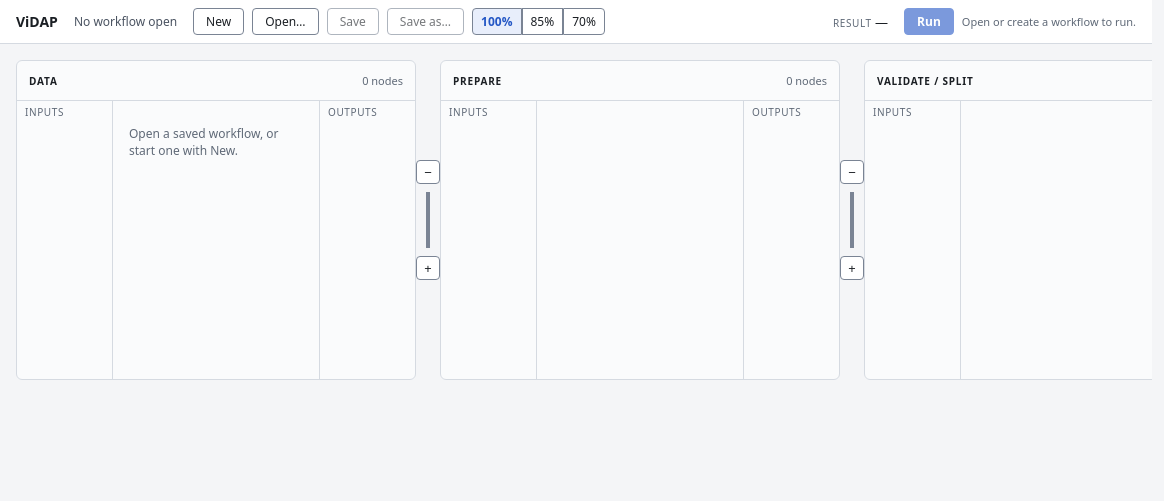
Test: Editor run, results, runtime errors, and boundary trace (P3-EP05) › handles 409 busy with a non-destructive retry banner and handles 422 run-refused
Click the button "Open…" at (285, 22), box [252, 8, 319, 35]
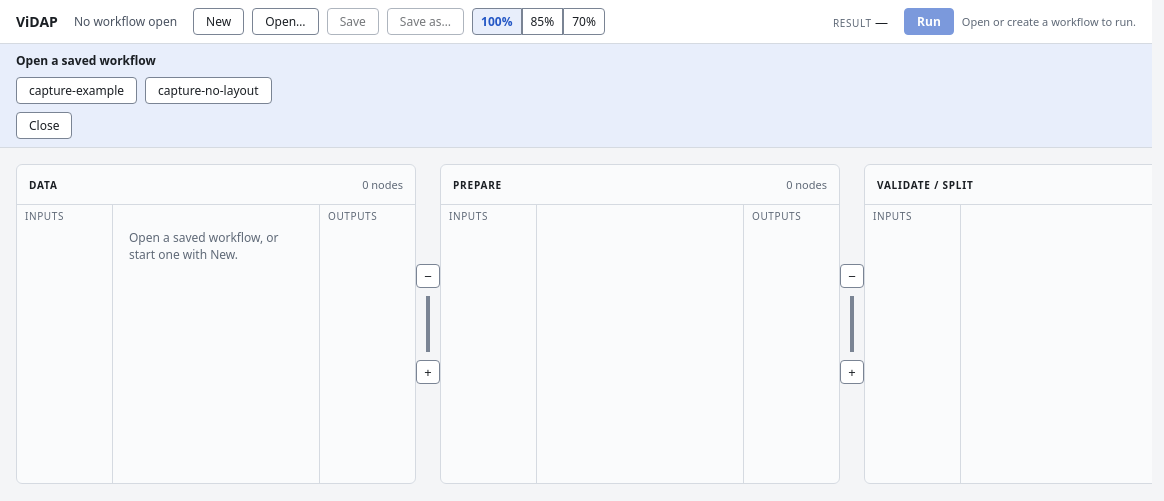
Click the button "capture-example" at (76, 90), box [16, 77, 137, 104]
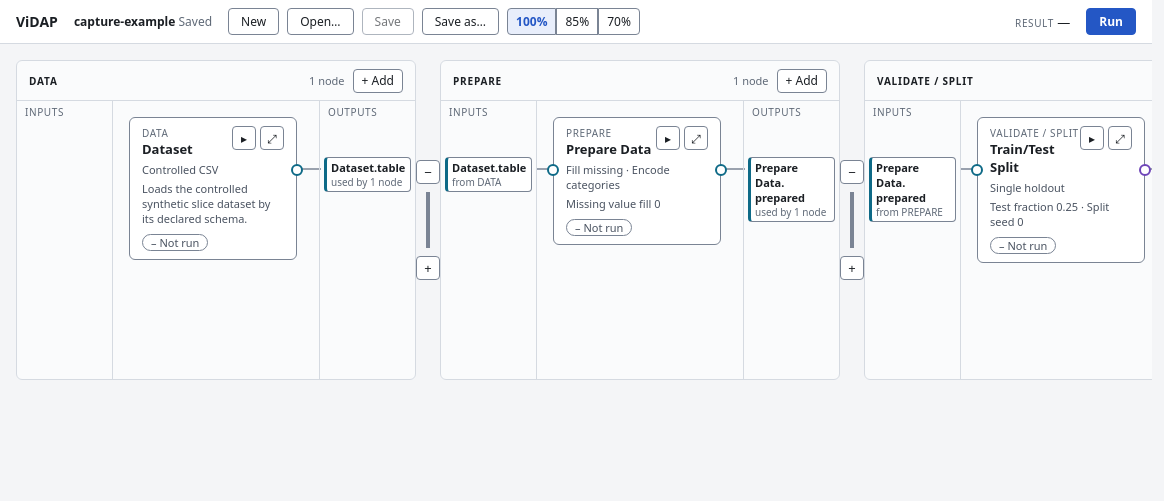
Click the button "Run" at (1111, 22), box [1086, 8, 1136, 35]
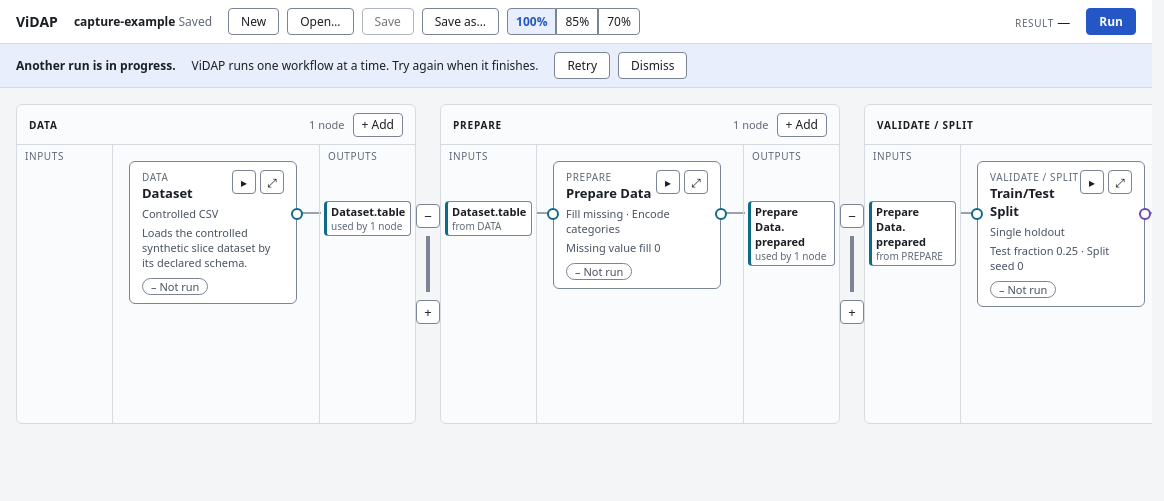
Check: the text "Another run is in progress." is shown, box [16, 57, 176, 74]
Click the button "Retry" at (582, 66), box [554, 52, 610, 79]
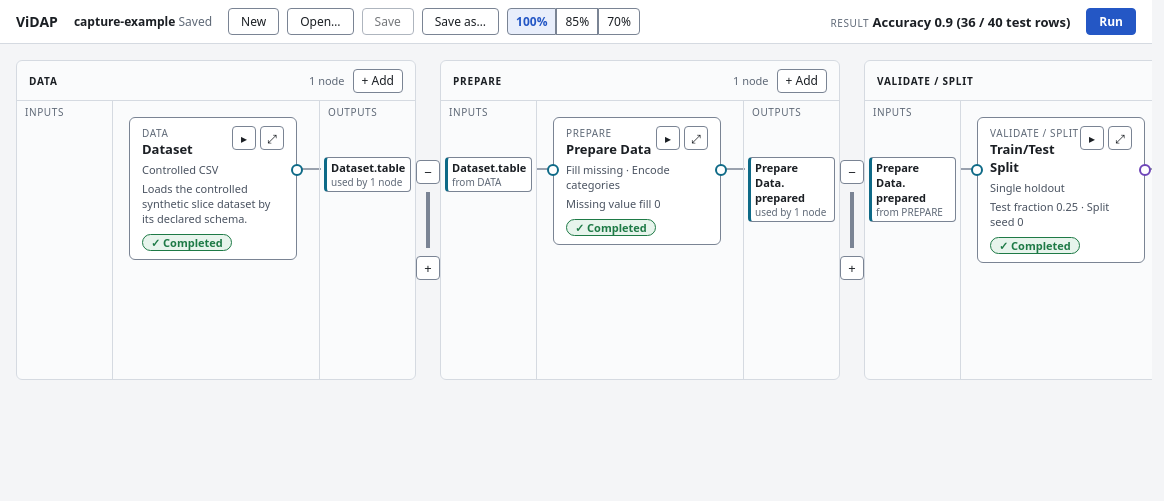
Check: the text "Accuracy 0.9 (36 / 40 test rows)" is shown, box [873, 12, 1070, 30]
Click the button "Run" at (1111, 22), box [1086, 8, 1136, 35]
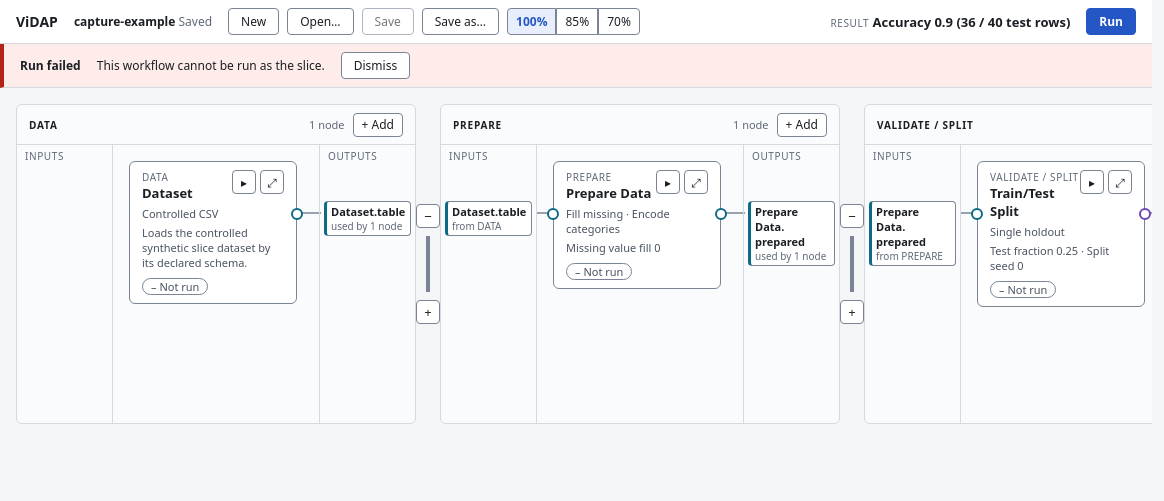
Check: the text "This workflow cannot be run as the slice." is shown, box [97, 57, 325, 74]
